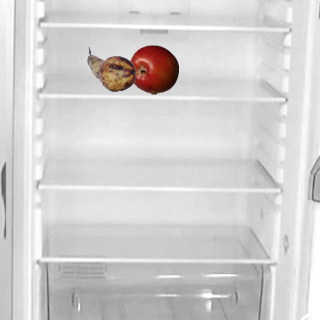Apple Braeburn: (128, 44, 178, 94)
Pear Abate: (86, 44, 136, 94)
